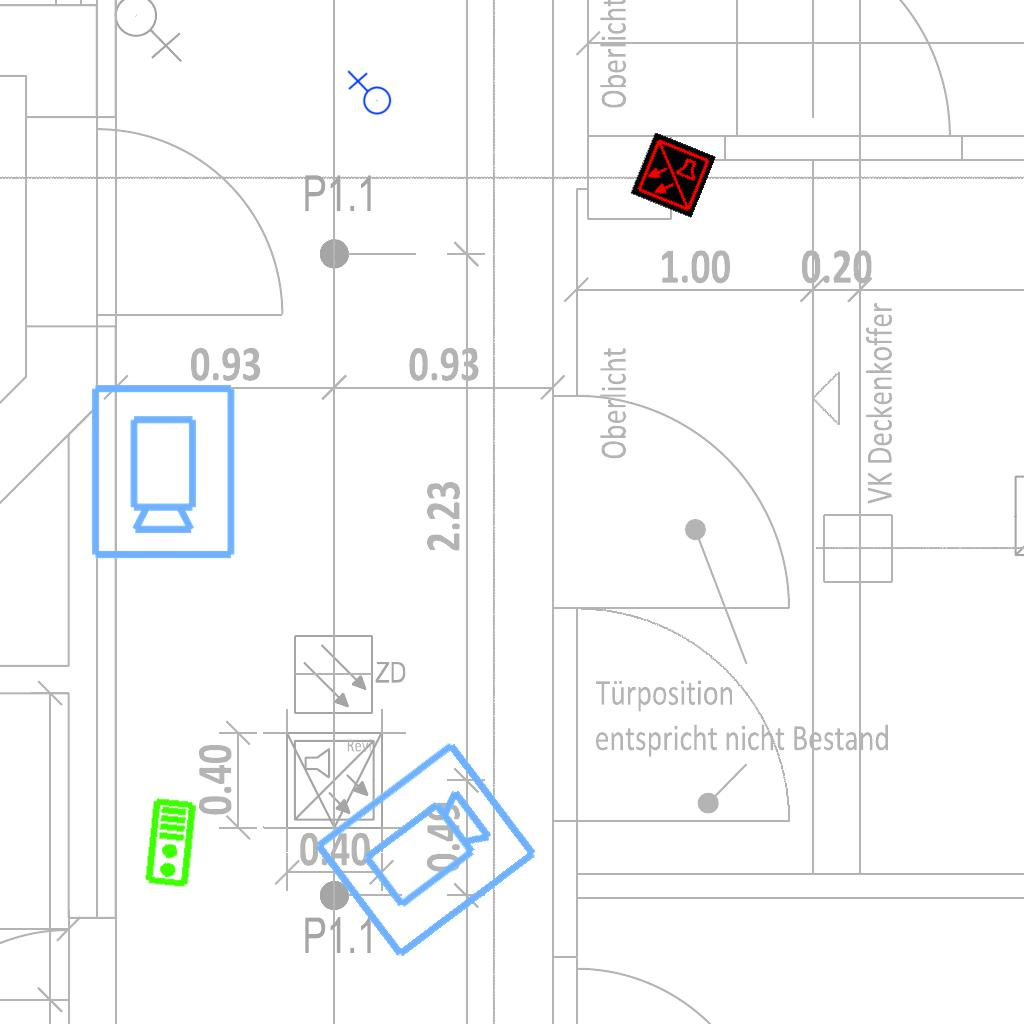Elektroanschluss_allgemein_230V_Geraeteanschlussdose_230V: (345, 70, 392, 119)
Gegensprechanlage_mit_Video: (143, 796, 200, 890)
KFO_Kamera_mit_Festobjektiv: (306, 734, 546, 968), (85, 380, 239, 562)
OKW_Multisensormelder_(Kombination_optischer_Rauch-Kahlenmonoxid_Waerme-Melder): (630, 132, 716, 218)
